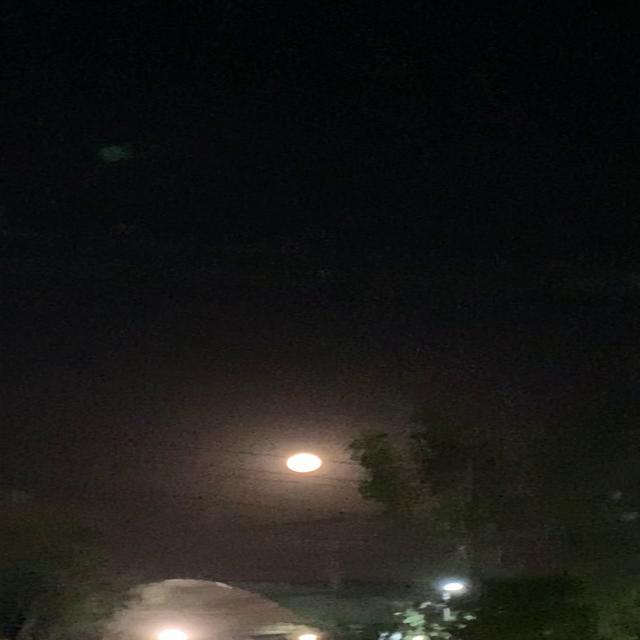moon: (290, 451, 343, 477)
